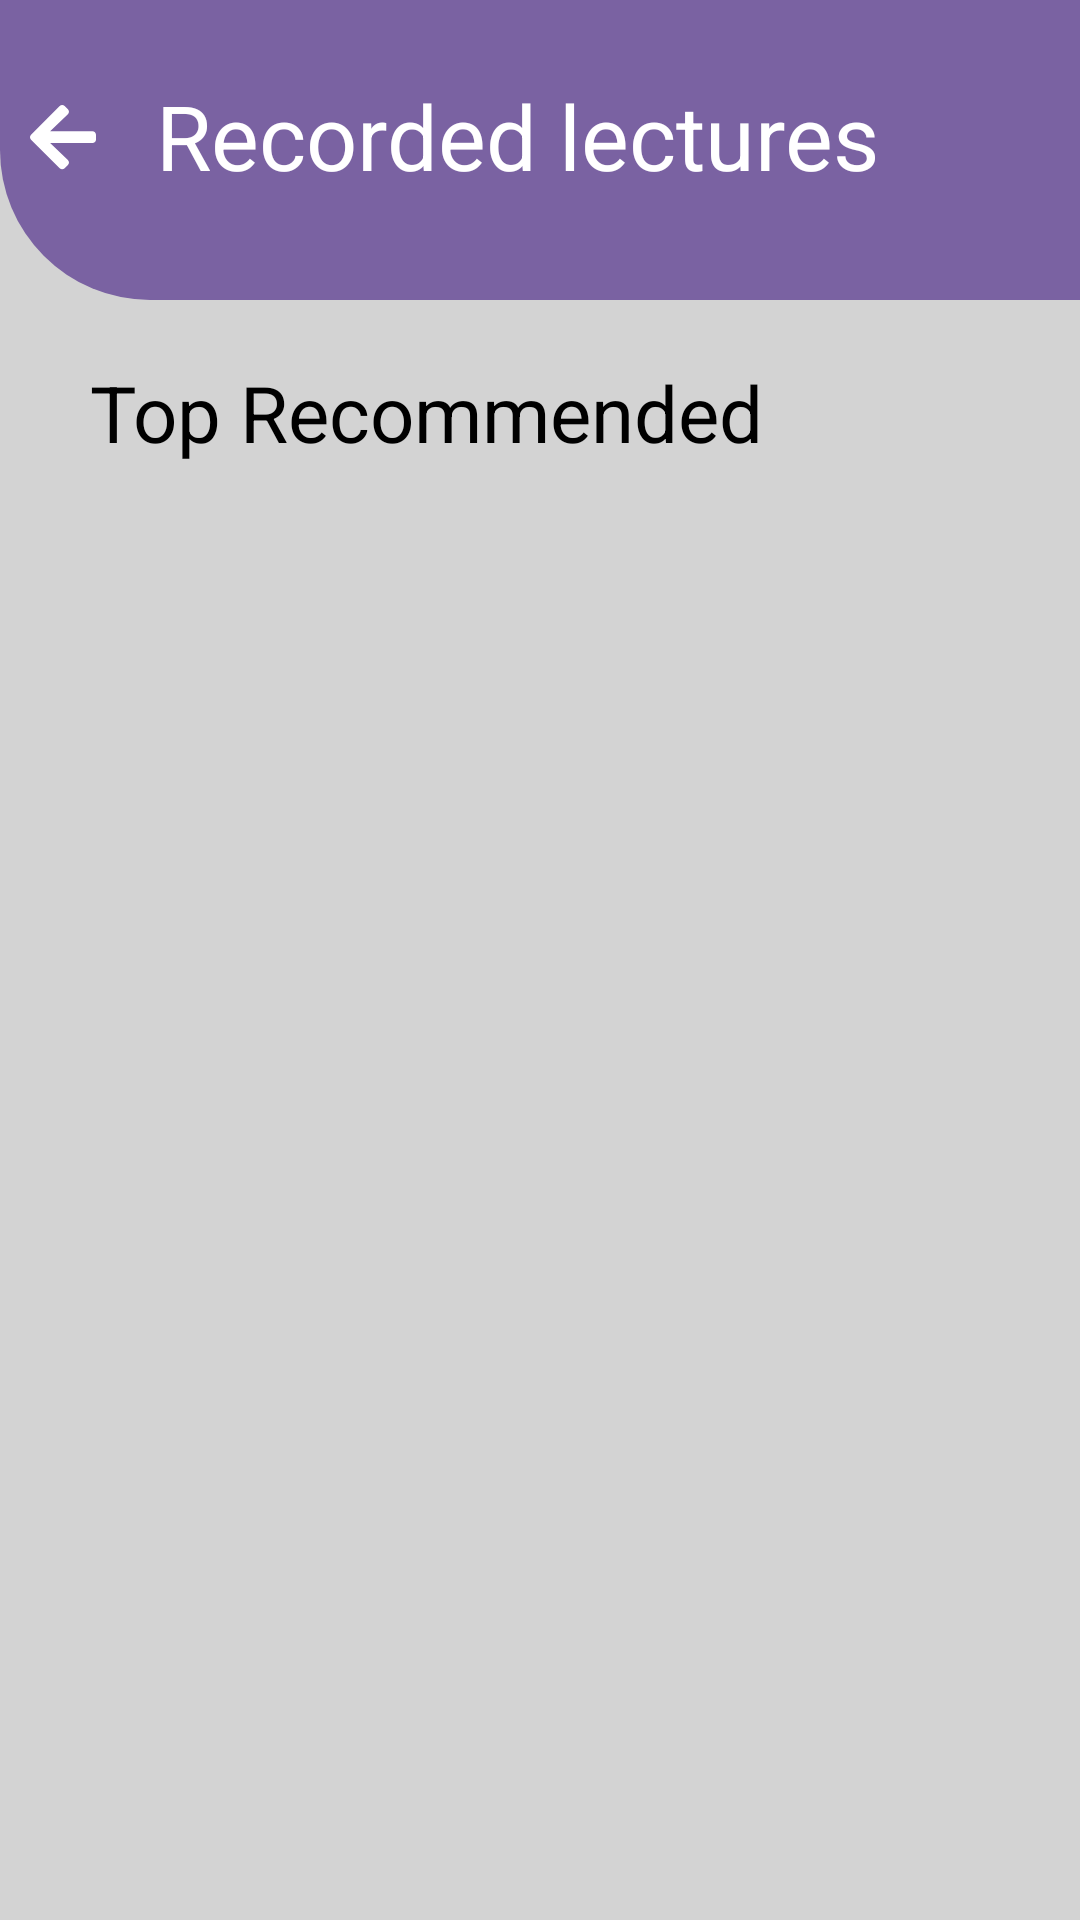

Icon click points for this 1080 × 1920 phone screenshot, format point (x, y):
backarrow: point (63, 137)
